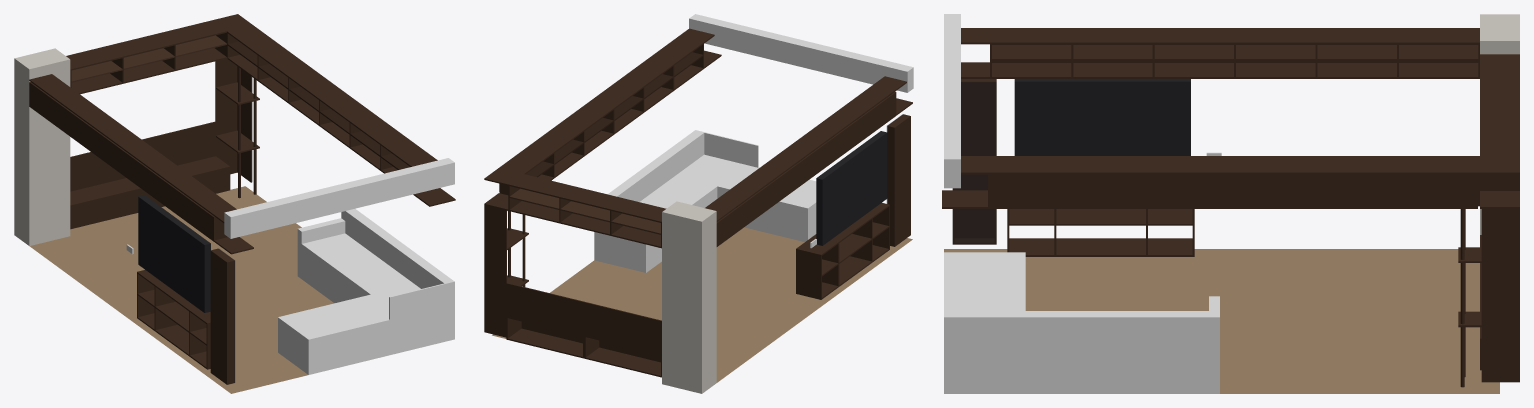
The model's file is living-room.glb.
3 renders of one model, left to right at view 1: azimuth 30°, elevation 25°; view 2: azimuth 150°, elevation 25°; view 3: azimuth 270°, elevation 25°, orthographic. The views are drawn at different scales.
Visible parts, largest first — view 1: Floor, chimney_wall, beam_living_room, TV_Screen, Cube.001, Cube.007, Cube.008, backplate_right, Cube.046, drawerBox_back, Cube.022, drawerBox_top (+33 smaller); view 2: Floor, chimney_wall, beam_living_room, Cube.046, TV_Screen, Cube.001, Cube.007, Cube.008, Cube.022, Cube.027, Cube.023, Cube.049 (+25 smaller); view 3: Floor, backplate_back, Cube, TV_Screen, Cube.001, Cube.008, Cube.003, Cube.025, Cube.022, Door_Joystick, drawerBox_top, Cube.042 (+17 smaller).
Part boxes in pixels (<box>): Floor: <box>29,186,333,393</box>; chimney_wall: <box>14,48,70,245</box>; beam_living_room: <box>224,158,454,238</box>; TV_Screen: <box>138,195,210,312</box>; Cube.001: <box>227,25,437,166</box>; Cube.007: <box>29,82,215,241</box>; Cube.008: <box>29,74,236,222</box>; backplate_right: <box>389,281,454,354</box>; Cube.046: <box>70,121,215,191</box>; drawerBox_back: <box>308,319,389,374</box>; Cube.022: <box>66,14,252,70</box>; drawerBox_top: <box>280,295,388,338</box>; Floor: <box>492,227,912,382</box>; chimney_wall: <box>662,201,716,393</box>; beam_living_room: <box>689,14,913,92</box>; Cube.046: <box>506,283,661,354</box>; TV_Screen: <box>816,131,887,245</box>; Cube.001: <box>499,28,714,174</box>; Cube.007: <box>716,91,896,246</box>; Cube.008: <box>705,76,906,221</box>; Cube.022: <box>484,168,666,222</box>; Cube.027: <box>485,207,506,337</box>; Cube.023: <box>484,193,661,248</box>; Cube.049: <box>506,328,661,377</box>; Floor: <box>944,249,1499,393</box>; backplate_back: <box>946,316,1219,393</box>; Cube: <box>988,174,1477,206</box>; TV_Screen: <box>1014,79,1190,155</box>; Cube.001: <box>961,156,1479,174</box>; Cube.008: <box>961,28,1479,44</box>; Cube.003: <box>961,62,1479,78</box>; Cube.025: <box>1481,210,1519,382</box>; Cube.022: <box>1480,54,1519,174</box>; Door_Joystick: <box>953,81,996,244</box>; drawerBox_top: <box>946,253,1023,310</box>; Cube.042: <box>954,83,994,238</box>.
Bounding box in the file's own units: 3.46 × 2.6 × 5.8.
